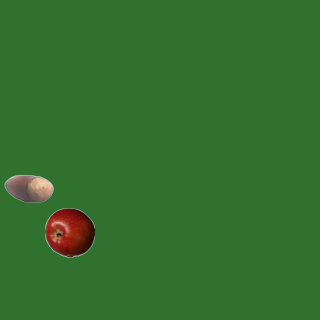Apple Braeburn: (44, 207, 94, 257)
Hazelnut: (3, 163, 53, 213)
